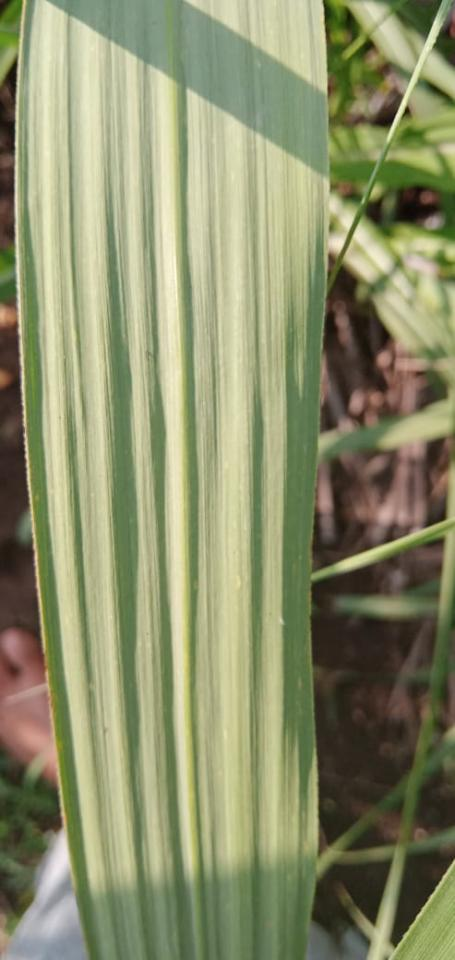Healthy: (17, 0, 328, 959)
